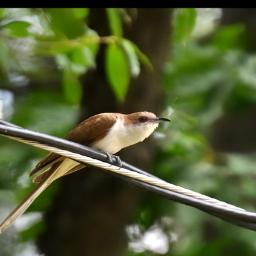Cuckoo: (0, 109, 172, 239)
